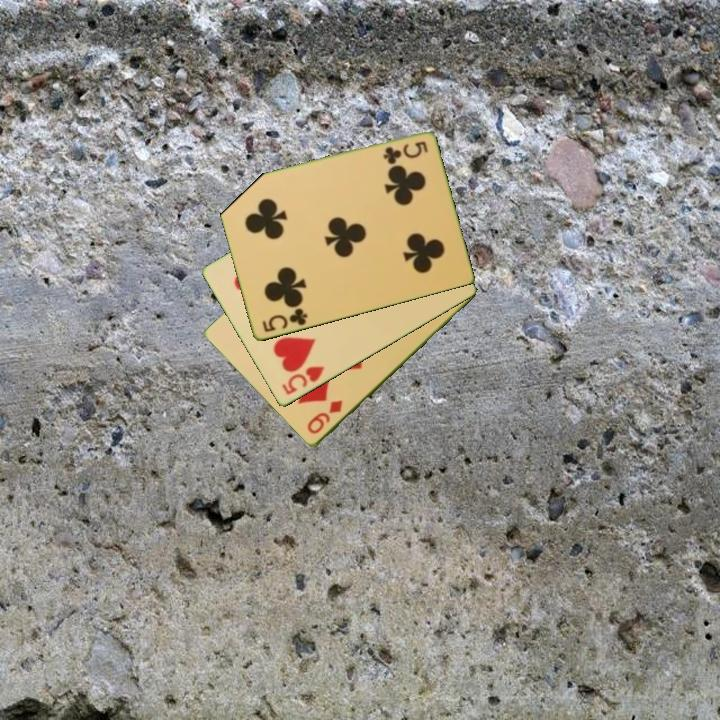5c: (258, 305, 310, 335), (379, 138, 431, 166)
5h: (278, 363, 328, 398)
9d: (304, 396, 346, 437)
